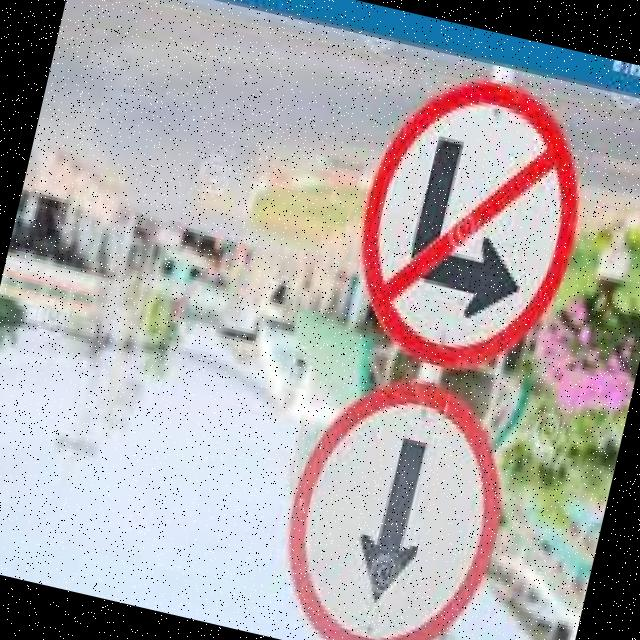do_not_turn_right: (325, 60, 610, 401)
